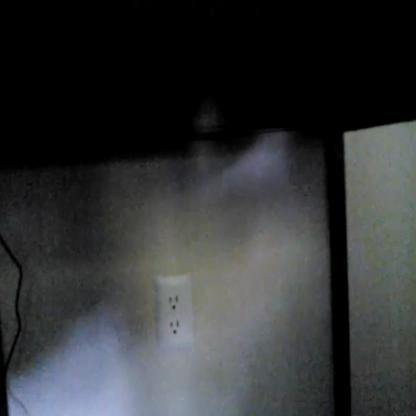OUTLET: (154, 276, 195, 348)
